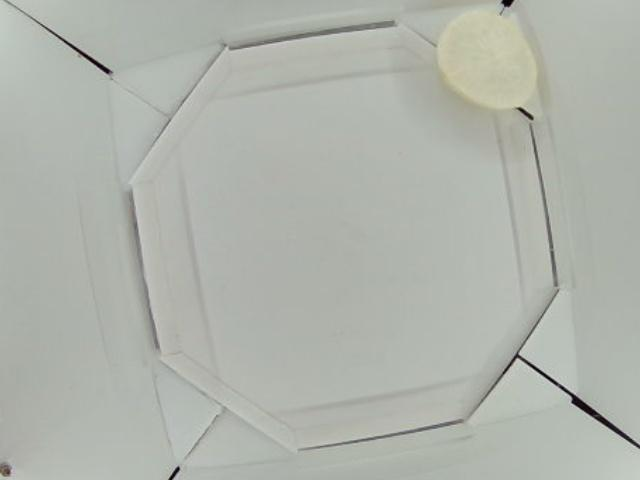Mooli: (436, 9, 538, 113)
